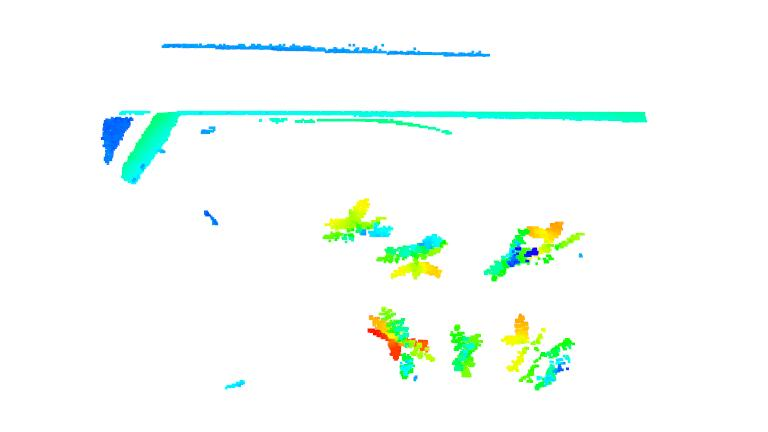chickpea: (483, 222, 587, 281), (502, 314, 577, 389), (365, 305, 435, 381), (321, 197, 399, 245), (376, 232, 450, 278), (445, 326, 488, 379)
